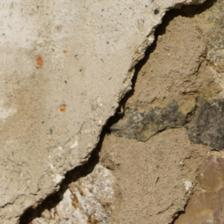Crack: (22, 2, 190, 218)
